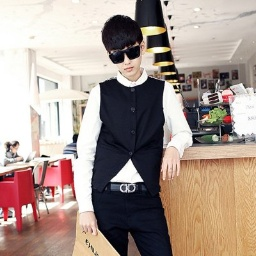face: (98, 13, 147, 79)
